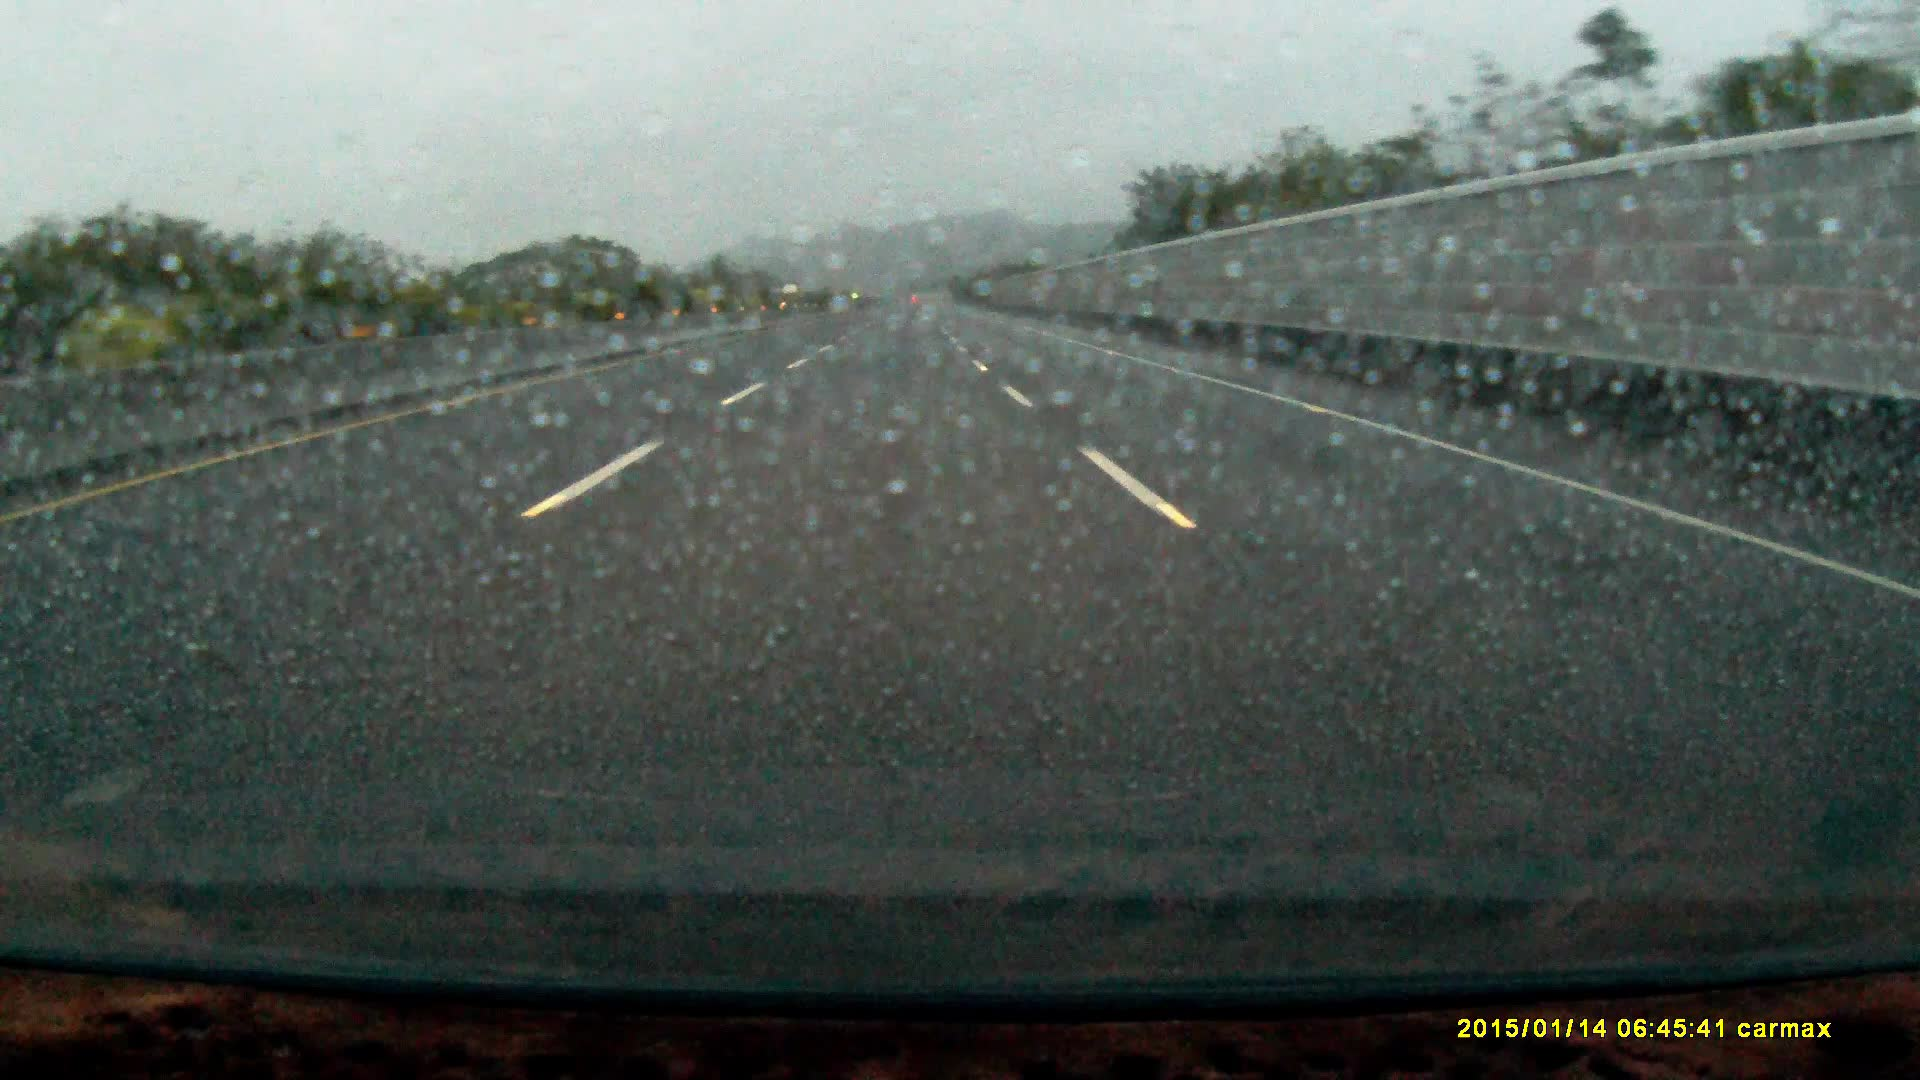vehicle: (782, 281, 807, 307)
